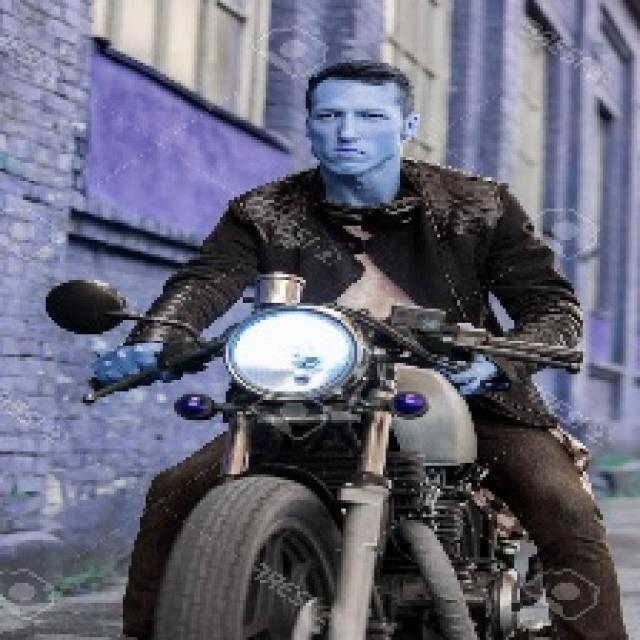Motorcycle: (122, 288, 548, 640)
